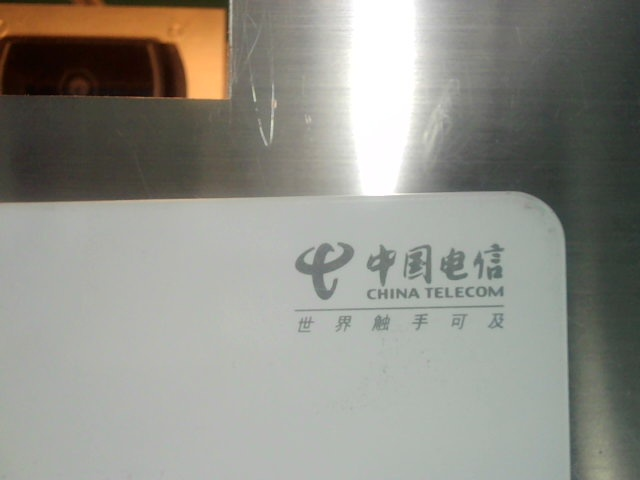AB_ChinaTelecom: (291, 236, 528, 335)
